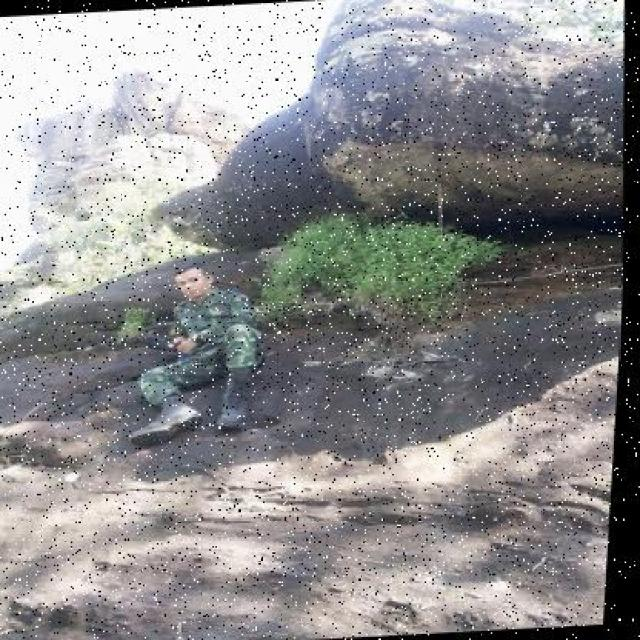MIL_Pax: (144, 259, 288, 446)
